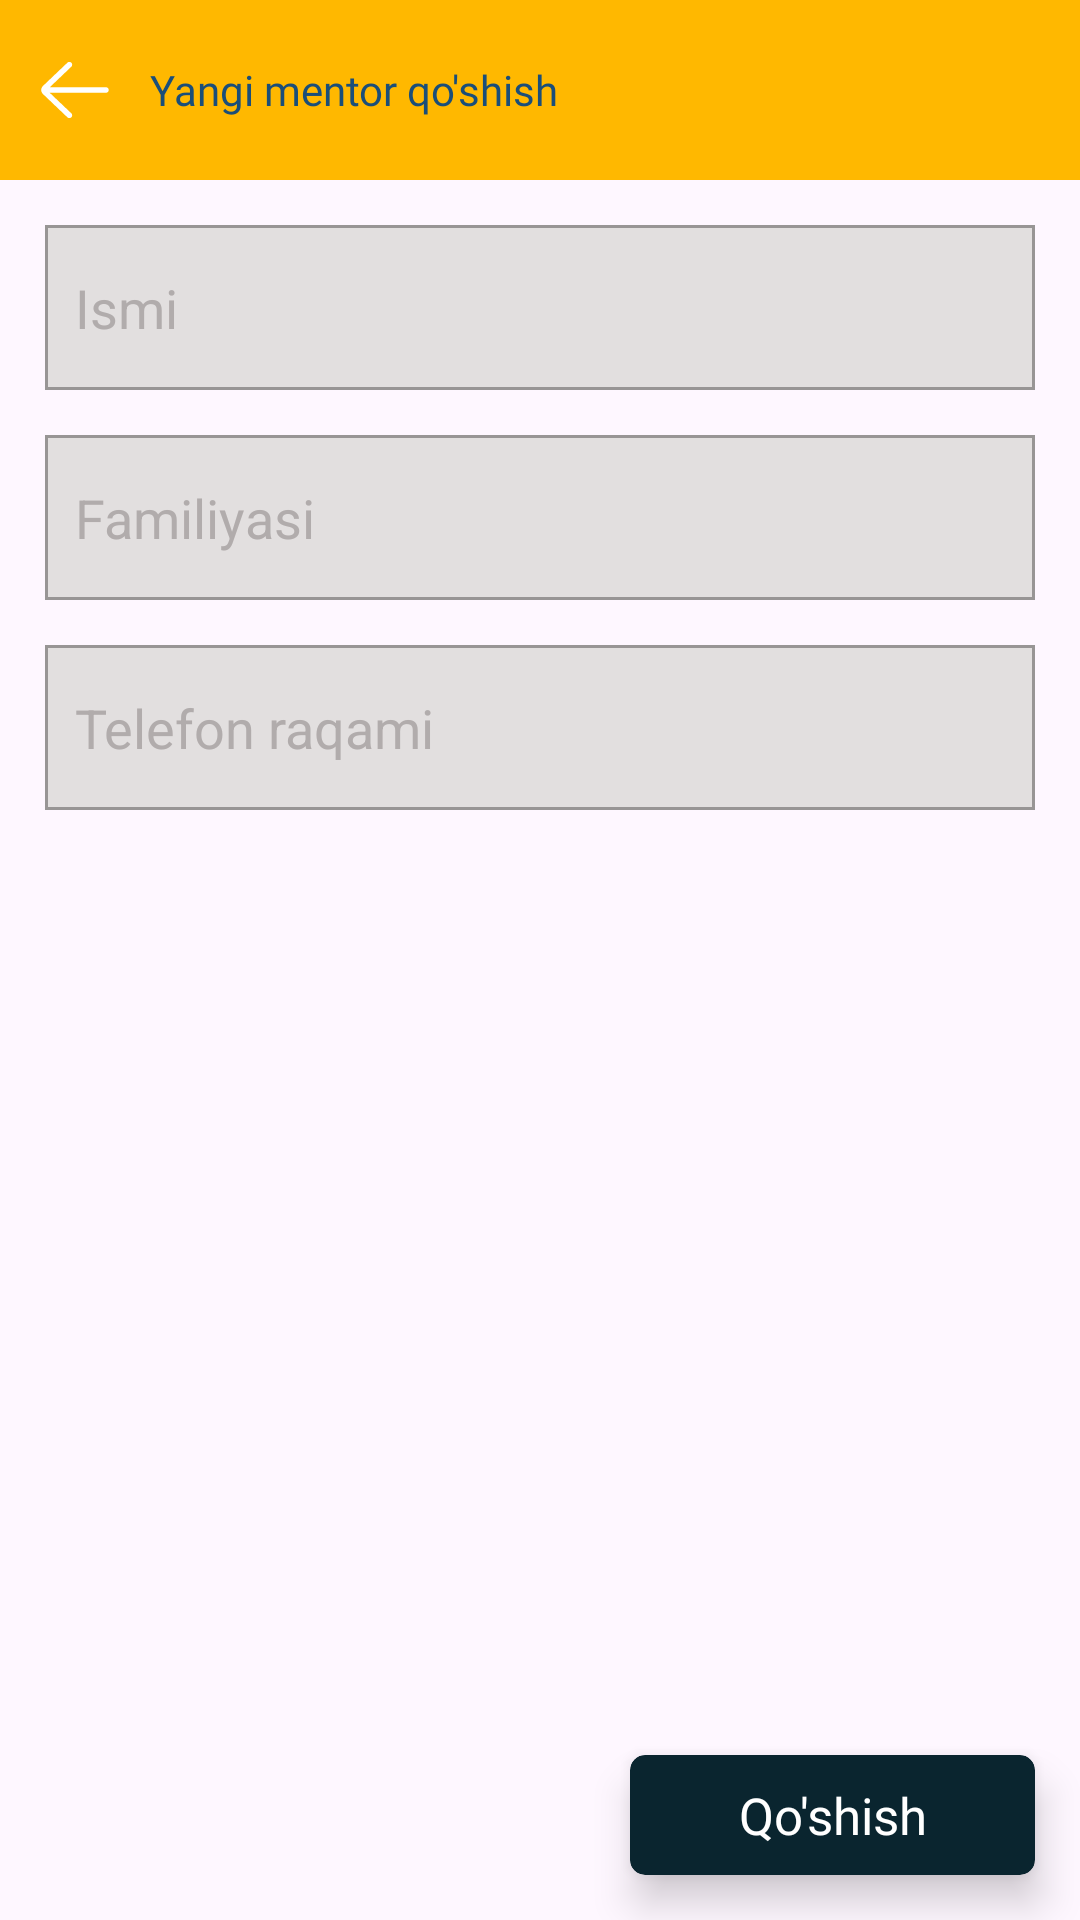

Locate icon controls on the screen. Image size 1080×1920, boxes as (x1, y1, x2, y2).
back: (41, 62, 109, 118)
